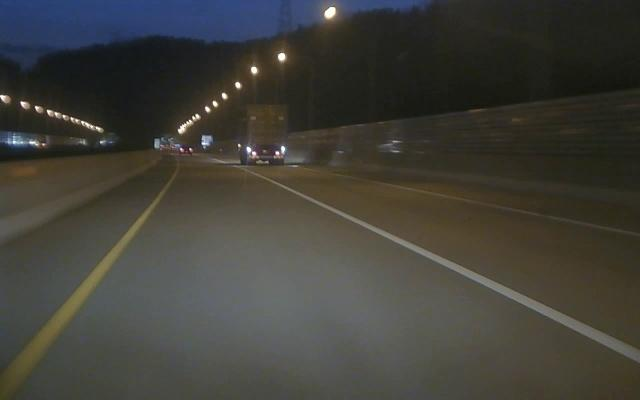lane: (276, 182, 639, 360), (3, 187, 167, 399), (398, 185, 640, 236)
